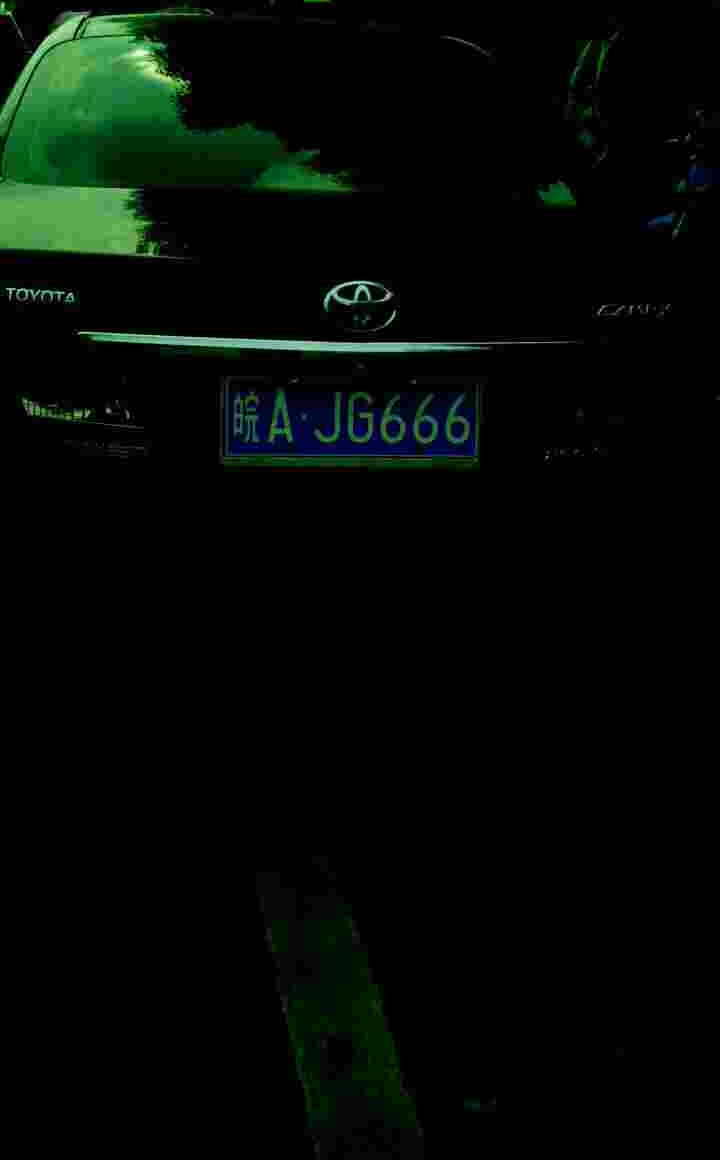license_plate: (232, 378, 476, 457)
